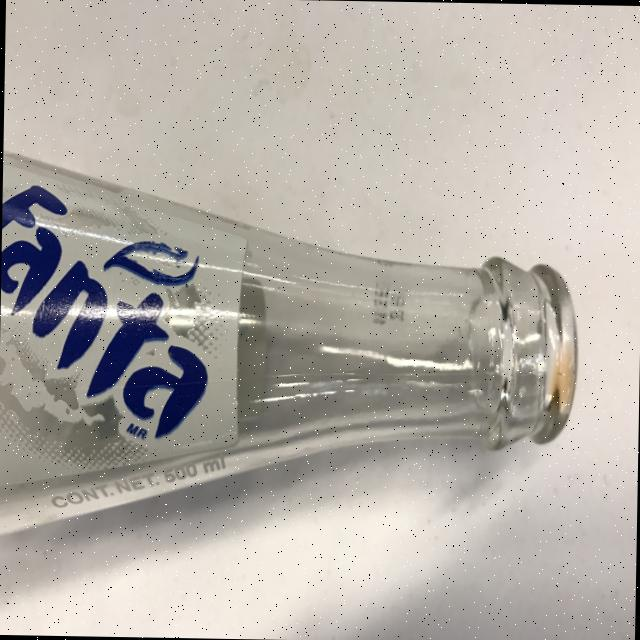glass: (0, 147, 581, 542)
